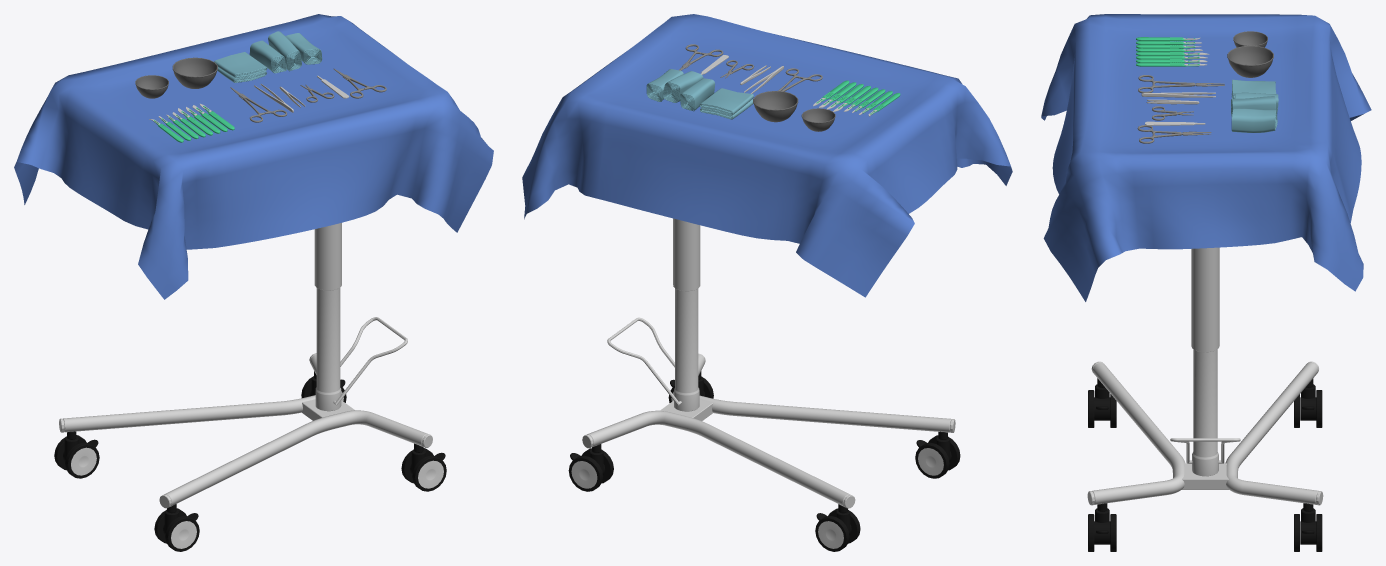
File: Medical Tool Table.fbx
3 views of the same model, side by side, from view 1: azimuth 30°, elevation 25°; view 2: azimuth 150°, elevation 25°; view 3: azimuth 270°, elevation 25° (orthographic). The views are drawn at different scales.
Parts seen in each view (by area): view 1: Cloth Medical Tool Table, Medical Tool Table, Bandage 4, Cup 1, Bandage 3, Bandage 2, Cup 2, Bandage 1; view 2: Cloth Medical Tool Table, Medical Tool Table, Bandage 4, Cup 1, Bandage 3, Bandage 2, Cup 2; view 3: Cloth Medical Tool Table, Medical Tool Table, Cup 1, Bandage 1, Bandage 4, Bandage 2, Clamp 2, Cup 2, Clamp 4.
Part boxes in pixels (left/top/right/bottom): Cloth Medical Tool Table: left=14, top=14, right=493, bottom=299; Medical Tool Table: left=54, top=223, right=446, bottom=551; Bandage 4: left=214, top=52, right=267, bottom=82; Cup 1: left=172, top=57, right=217, bottom=88; Bandage 3: left=249, top=40, right=286, bottom=73; Bandage 2: left=268, top=31, right=301, bottom=71; Cup 2: left=135, top=75, right=168, bottom=98; Bandage 1: left=285, top=33, right=322, bottom=64; Cloth Medical Tool Table: left=522, top=14, right=1012, bottom=297; Medical Tool Table: left=568, top=218, right=960, bottom=551; Bandage 4: left=699, top=88, right=753, bottom=119; Cup 1: left=753, top=91, right=798, bottom=122; Bandage 3: left=680, top=78, right=715, bottom=111; Bandage 2: left=663, top=71, right=703, bottom=102; Cup 2: left=801, top=108, right=835, bottom=131; Cloth Medical Tool Table: left=1041, top=14, right=1371, bottom=301; Medical Tool Table: left=1087, top=247, right=1323, bottom=551; Cup 1: left=1227, top=45, right=1273, bottom=77; Bandage 1: left=1231, top=108, right=1277, bottom=132; Bandage 4: left=1231, top=79, right=1276, bottom=98; Bandage 2: left=1231, top=96, right=1275, bottom=116; Clamp 2: left=1138, top=75, right=1224, bottom=93; Cup 2: left=1233, top=31, right=1267, bottom=47; Clamp 4: left=1137, top=125, right=1211, bottom=143.
Size of the model in its own units: 95.5 by 96.22 by 68.58.
